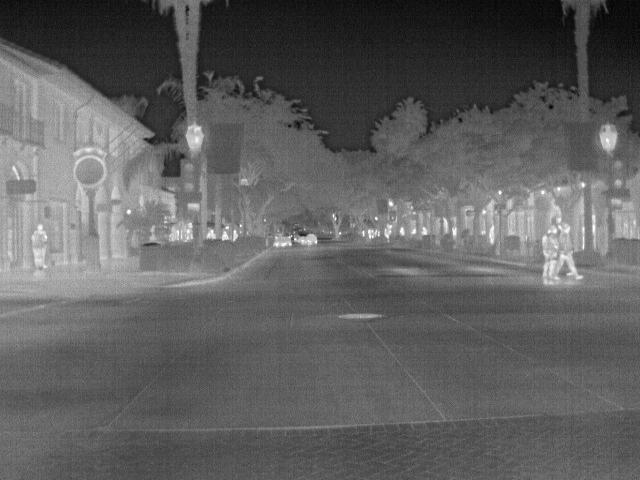car: (296, 226, 320, 246), (271, 230, 294, 248)
person: (559, 221, 583, 281), (540, 224, 559, 280), (29, 223, 50, 273), (205, 226, 219, 239), (218, 228, 231, 241), (230, 228, 242, 242)
